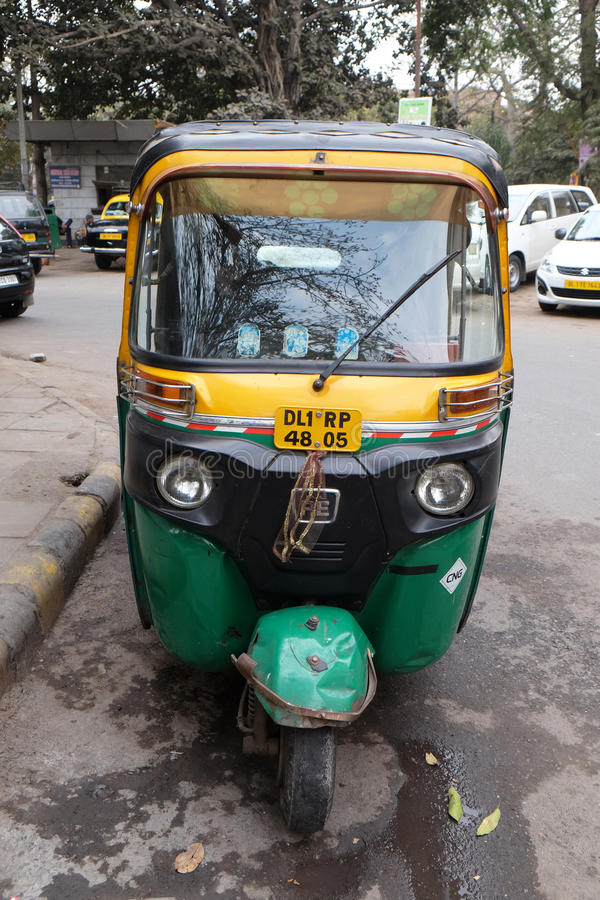auto: (106, 101, 525, 843)
numberplate: (264, 402, 376, 458)
